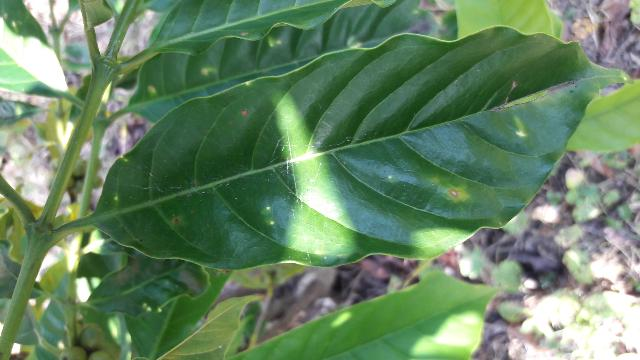rust_level_1: (93, 26, 633, 272)
